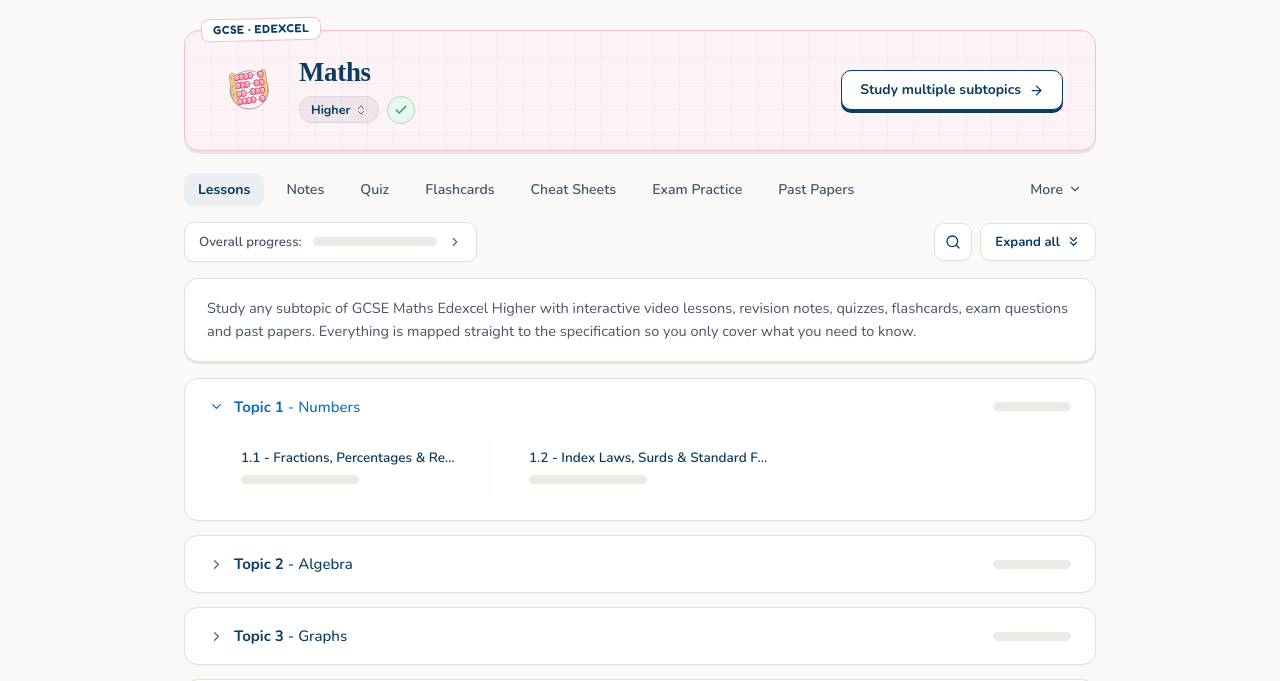
Test: M1 Platform Fixes & Foundation Contracts › 7. Maths courses expose full flashcard counts and unified tabs (Flashcards, Cheat Sheets, Exam Practice, Key Terms)
The image size is (1280, 681).
Check: the tab "Lessons" is shown, box [184,173,264,206]
Check: the tab "Quiz" is shown, box [346,173,403,206]
# Open "More" menu and confirm Key terms link is present for Maths
Click the button "More" at (1056, 189), box [1016,173,1096,206]
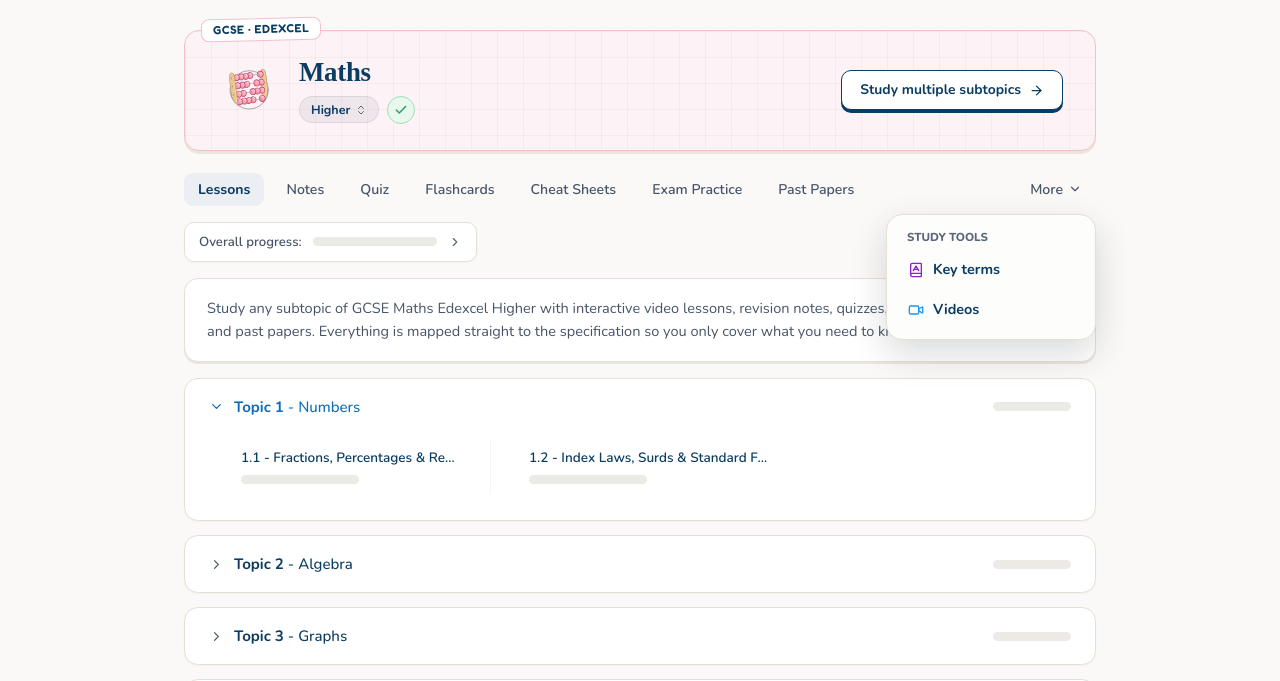
Check: the link "Key terms" is shown, box [908,259,1000,279]
